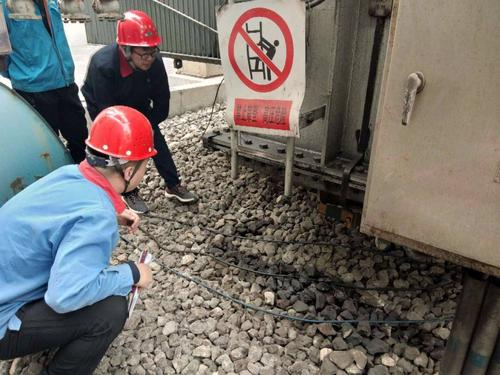oil: (213, 216, 291, 278)
